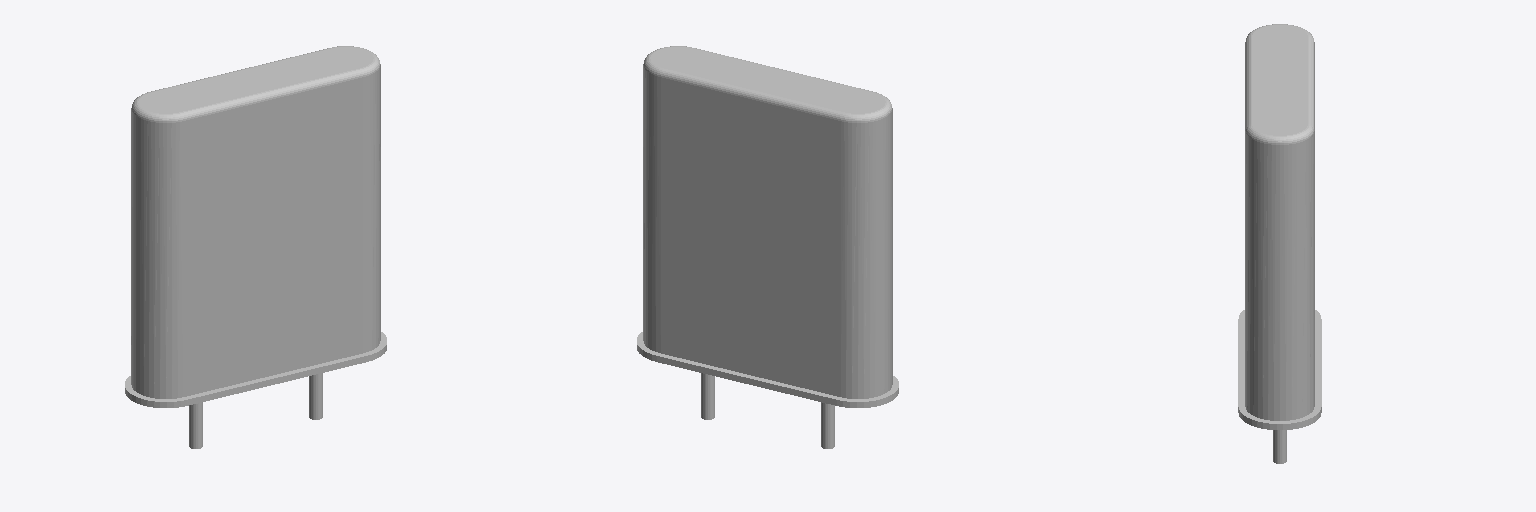
The model's file is fatcube.obj.
The picture shows the model from 3 angles: view 1: azimuth 30°, elevation 25°; view 2: azimuth 150°, elevation 25°; view 3: azimuth 270°, elevation 25°; orthographic projection.
Parts seen in each view (by area): view 1: Object.1; view 2: Object.1; view 3: Object.1.
Boxes of the visible parts, box(x1,y1,x2,y2) form: Object.1: box(125, 46, 386, 448); Object.1: box(637, 46, 898, 448); Object.1: box(1238, 24, 1321, 463).
Bounding box in the file's own units: 10.66 × 14.22 × 3.05.